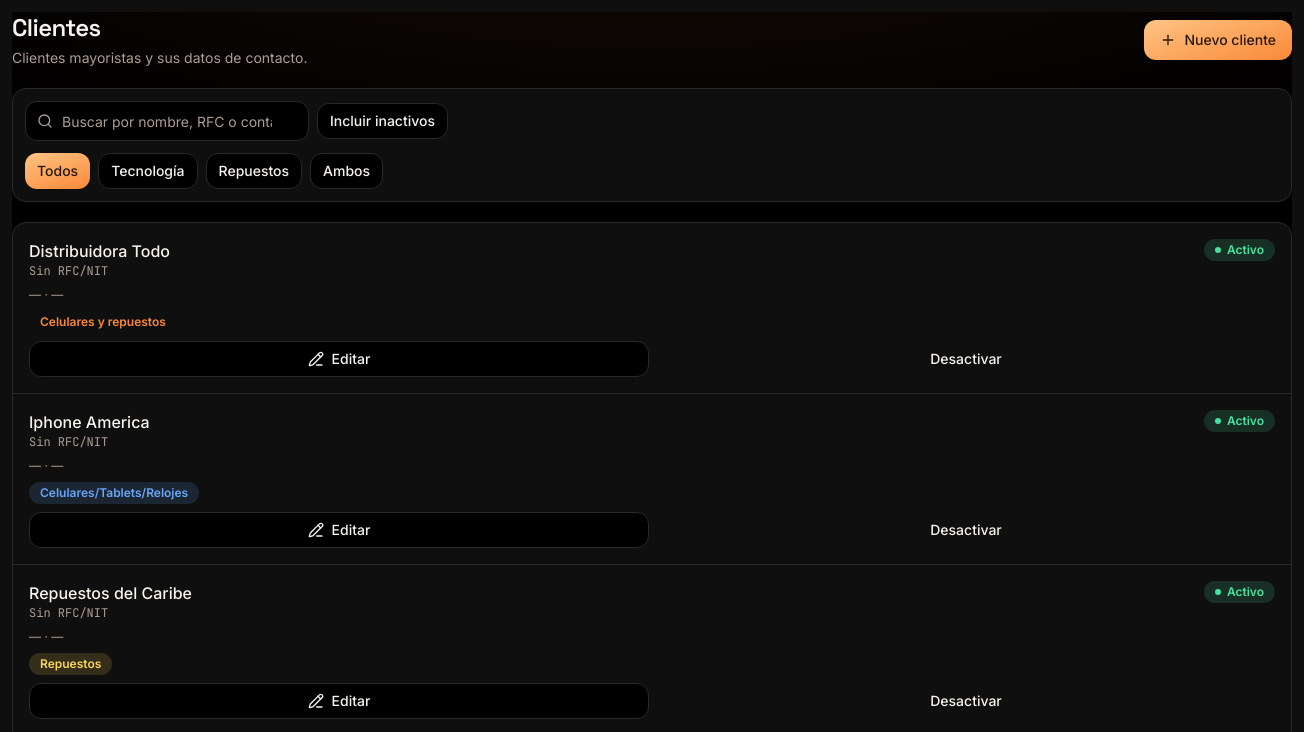
Test: Clientes · categoría › el filtro 'Tecnología' deja solo celulares y a quien vende de todo
Click the button "Tecnología" at (148, 171), box 98,153 -> 198,189
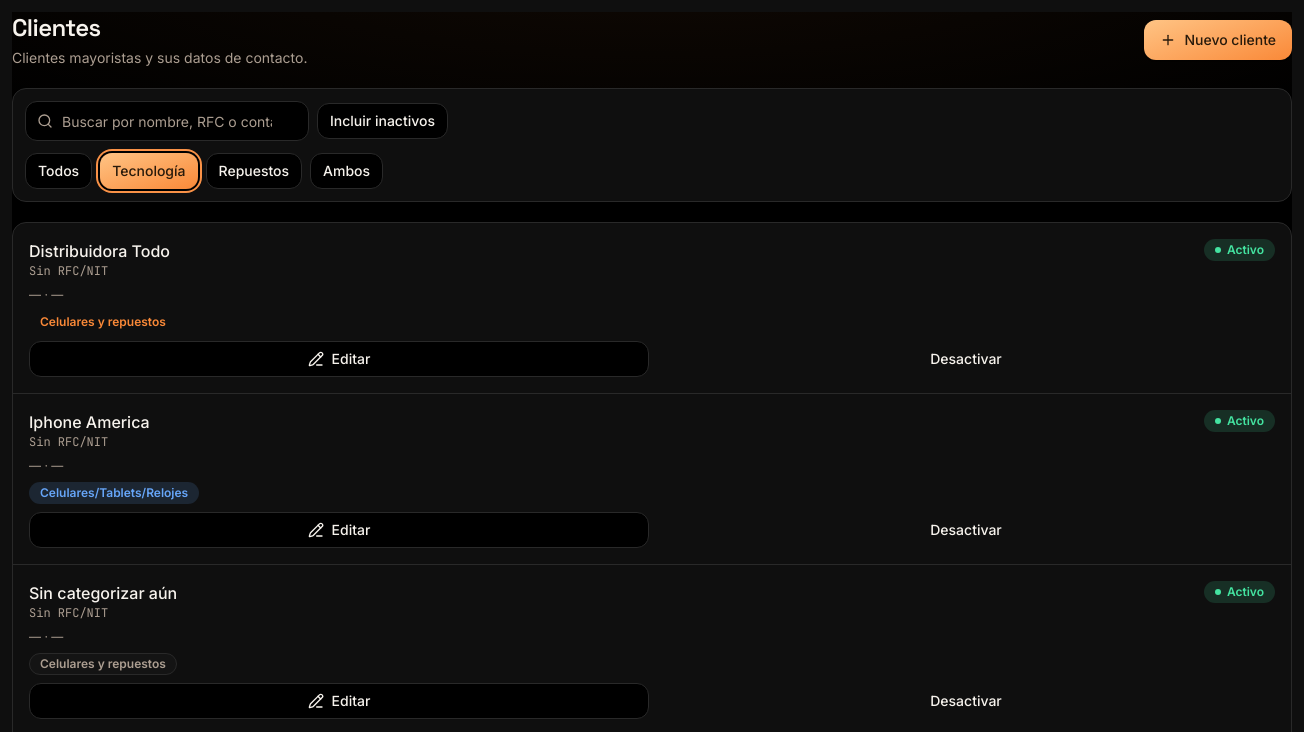
Expected: the text "Repuestos del Caribe" is gone
